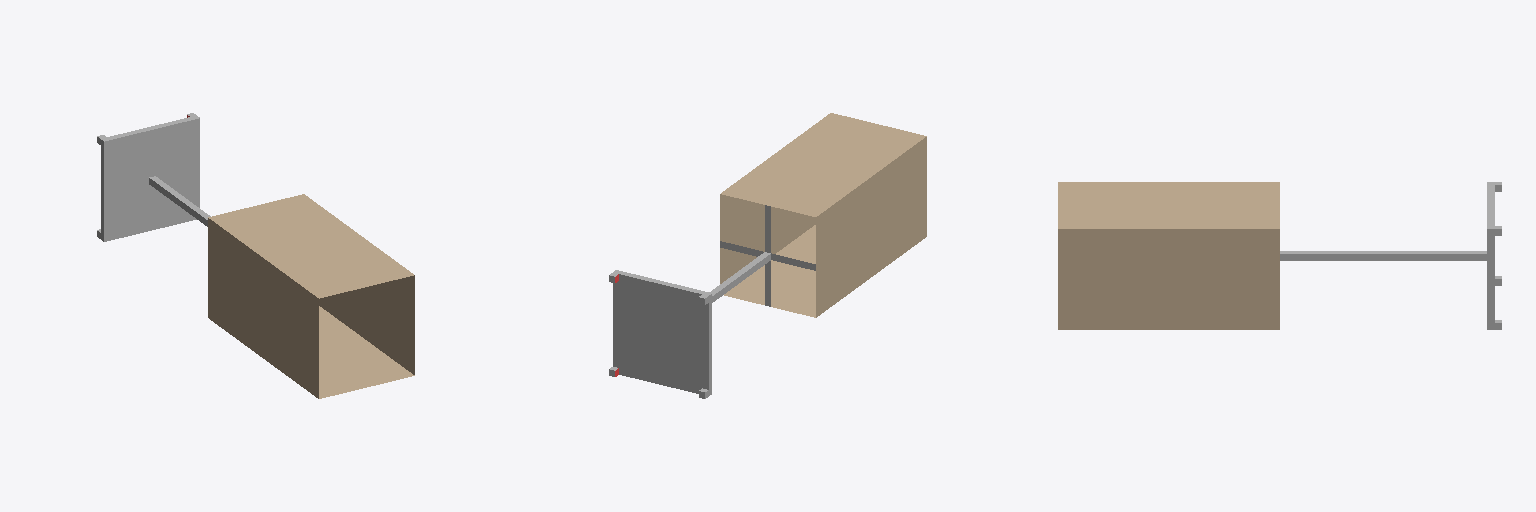
File: cat35_lamp.obj
3 renders of one model, left to right at view 1: azimuth 30°, elevation 25°; view 2: azimuth 150°, elevation 25°; view 3: azimuth 270°, elevation 25°, orthographic.
Parts seen in each view (by area): view 1: *1, 0131_Silver; view 2: *1, 0131_Silver; view 3: *1, 0131_Silver.
Boxes of the visible parts, x1=… form: *1: x1=208, y1=194, x2=414, y2=398; 0131_Silver: x1=97, y1=113, x2=210, y2=241; *1: x1=720, y1=113, x2=926, y2=317; 0131_Silver: x1=609, y1=205, x2=815, y2=398; *1: x1=1058, y1=182, x2=1279, y2=329; 0131_Silver: x1=1280, y1=182, x2=1501, y2=329.
Bounding box in the file's own units: 15 × 15 × 60.